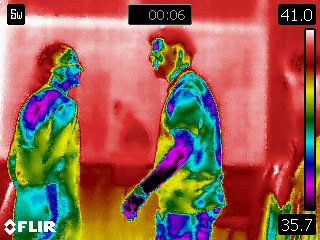human: (121, 26, 230, 240), (9, 40, 86, 240)
